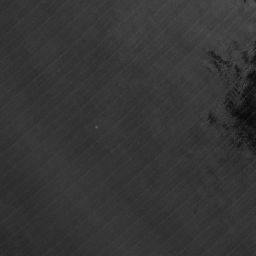Target: (93, 124, 100, 130)
